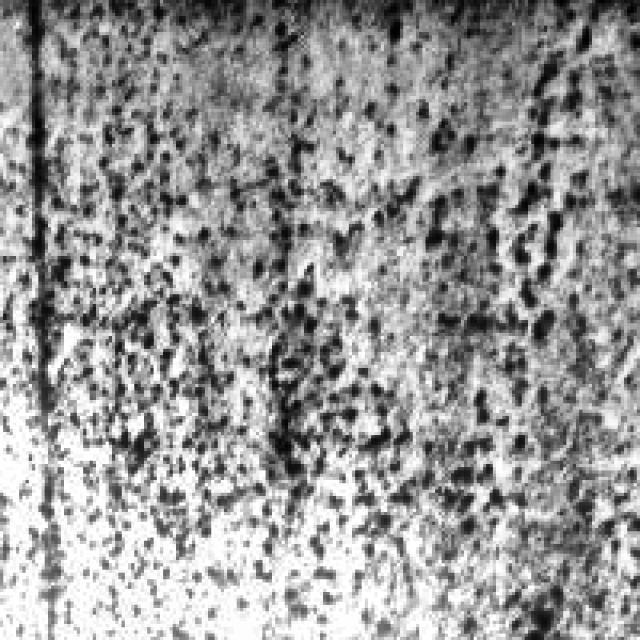Rolled_in_Scale: (0, 0, 621, 611)
